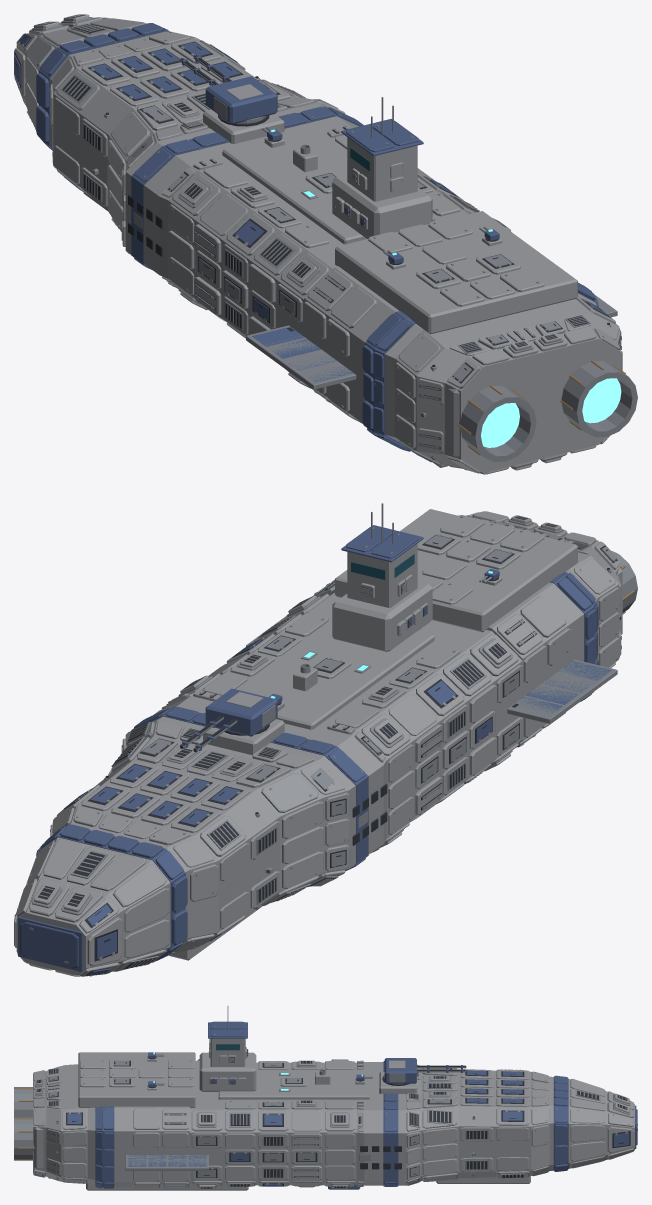
Rendered from earth_gun_cruiser.glb.
3 renders of one model, top to bottom at view 1: azimuth 30°, elevation 25°; view 2: azimuth 150°, elevation 25°; view 3: azimuth 270°, elevation 25°, orthographic. The views are drawn at different scales.
Visible parts, largest first — view 1: FleetHull, mesh_turret_gun_1; view 2: FleetHull, mesh_turret_gun_1; view 3: FleetHull, mesh_turret_gun_1, mesh_recoil_gun_1.
Boxes of the visible parts, <box> form: FleetHull: <box>14,14,637,474</box>; mesh_turret_gun_1: <box>205,76,277,124</box>; FleetHull: <box>14,503,637,976</box>; mesh_turret_gun_1: <box>205,688,277,736</box>; FleetHull: <box>14,1006,637,1190</box>; mesh_turret_gun_1: <box>384,1058,416,1084</box>; mesh_recoil_gun_1: <box>417,1065,466,1072</box>.
Bounding box in the file's own units: 114 × 104 × 330.
